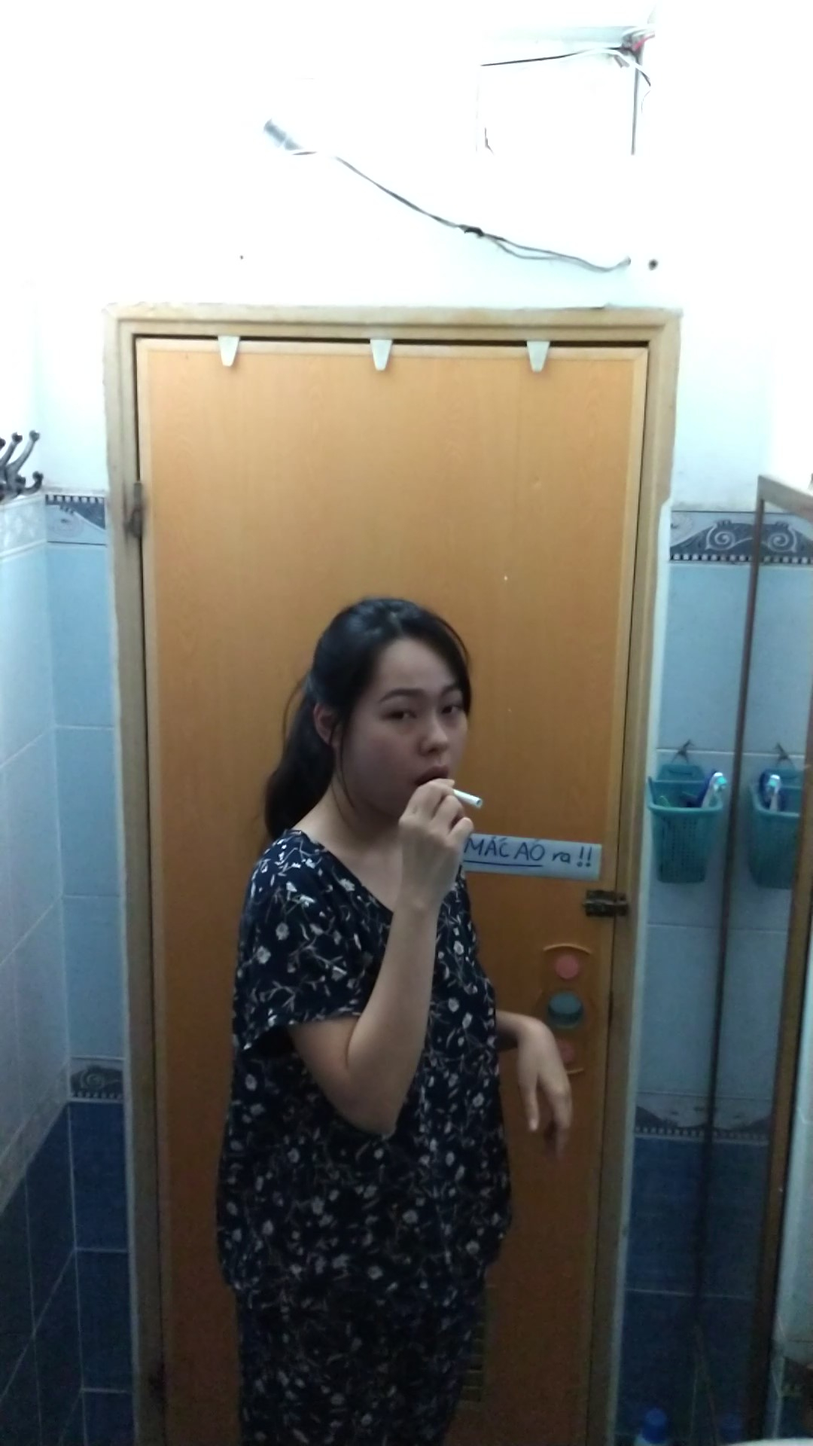cigarette: (453, 786, 489, 816)
person: (214, 581, 525, 1446)
